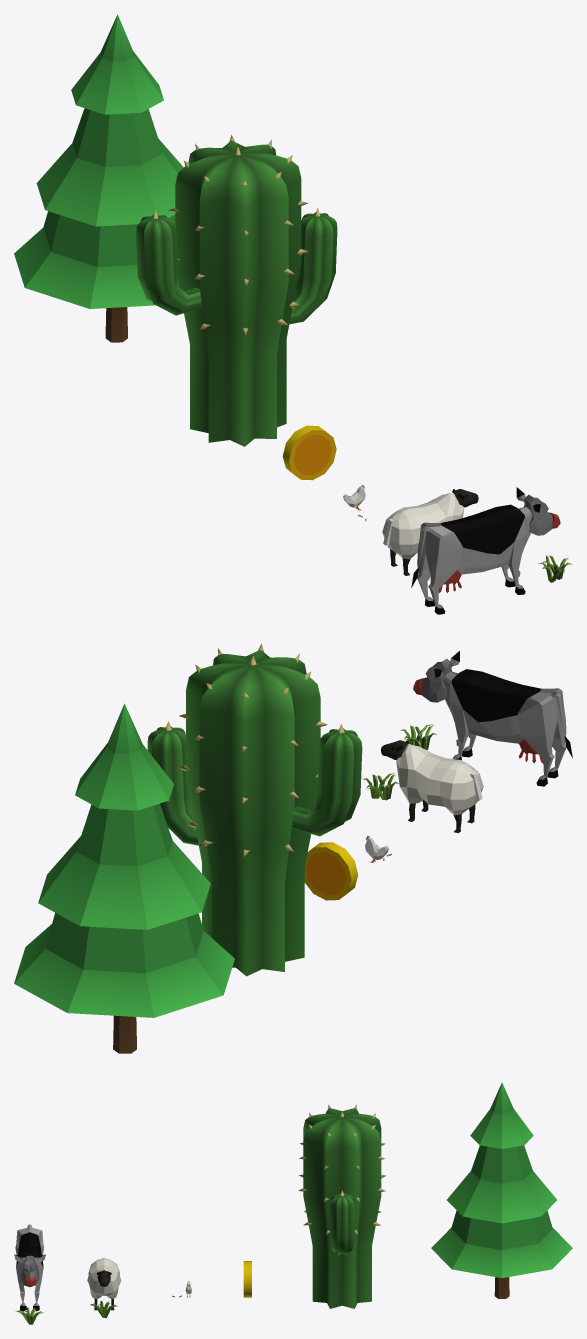
Rendered from tutoialAssets.FBX.
The picture shows the model from 3 angles, top to bottom: view 1: azimuth 30°, elevation 25°; view 2: azimuth 150°, elevation 25°; view 3: azimuth 270°, elevation 25°; orthographic projection. The views are drawn at different scales.
Visible parts, largest first — view 1: Cactus, Tree001, cow001, default, _Coin; view 2: Cactus, Tree001, cow001, default, _Coin; view 3: Tree001, Cactus, cow001, default, _Coin.
Part boxes in pixels (bbox=[...]): Cactus: bbox=[136, 135, 337, 446]; Tree001: bbox=[14, 14, 183, 342]; cow001: bbox=[411, 487, 572, 614]; default: bbox=[382, 489, 478, 575]; _Coin: bbox=[282, 425, 336, 480]; Cactus: bbox=[147, 643, 362, 976]; Tree001: bbox=[14, 703, 234, 1053]; cow001: bbox=[400, 651, 572, 786]; default: bbox=[362, 740, 483, 833]; _Coin: bbox=[304, 842, 358, 900]; Tree001: bbox=[431, 1082, 572, 1298]; Cactus: bbox=[298, 1104, 385, 1308]; cow001: bbox=[14, 1224, 45, 1324]; default: bbox=[87, 1258, 121, 1317]; _Coin: bbox=[243, 1261, 251, 1297].
Size of the model in its own units: 320 by 520 by 1201.
